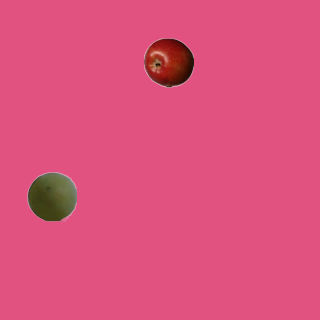Apple Braeburn: (143, 37, 193, 87)
Grape White 4: (26, 171, 76, 221)
